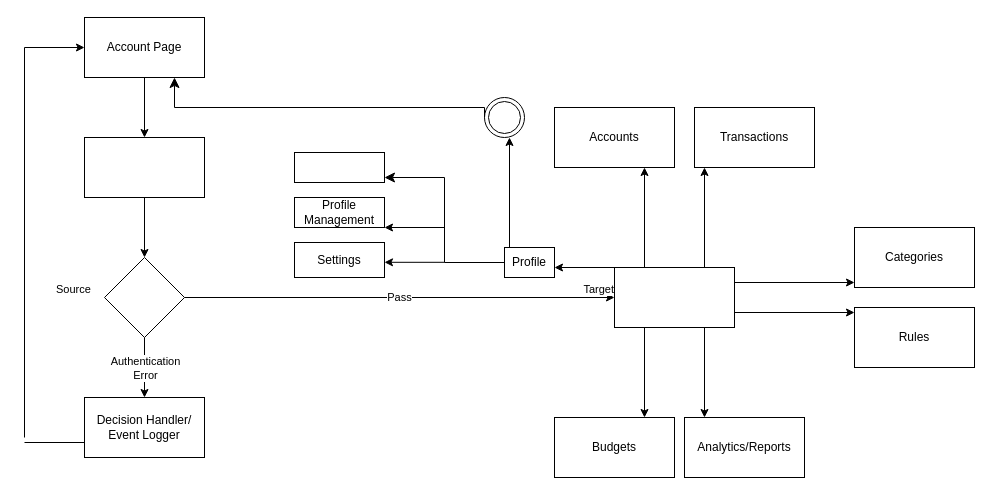
Image size: 992x495. Some labels were removed from this diagram. Each missing label, with the centre of its shape:
Authentication: point (144, 167)
Home/module / Dashboard: point (674, 297)
Logout: point (504, 117)
User Authentication: point (144, 297)
User Info: point (339, 167)
